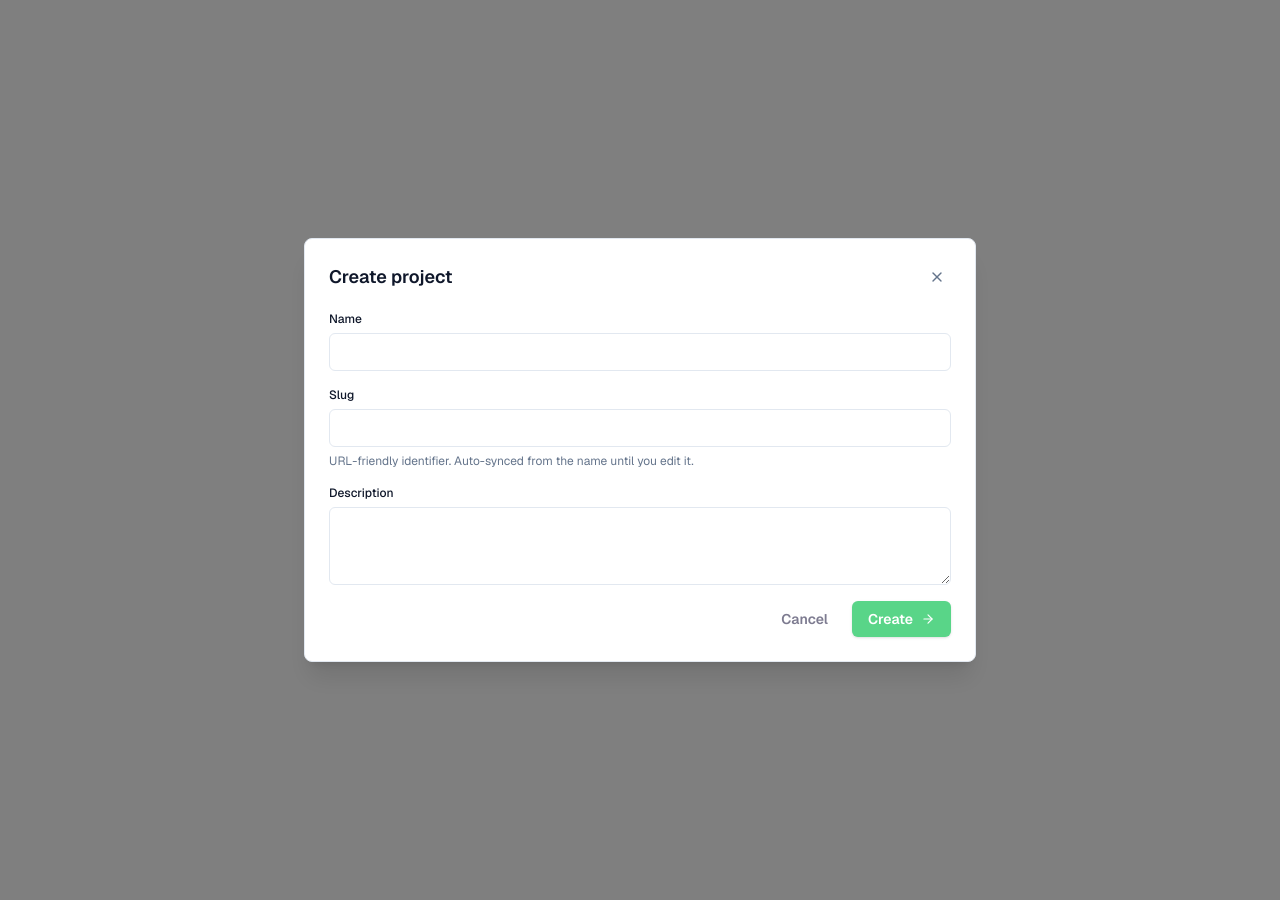
Test: ProjectDialog › should show an inline validation error for a non-kebab slug
The image size is (1280, 900).
Type "Talent Bridge" into the field labelled "Name" at (640, 352), box [329,333,951,371]
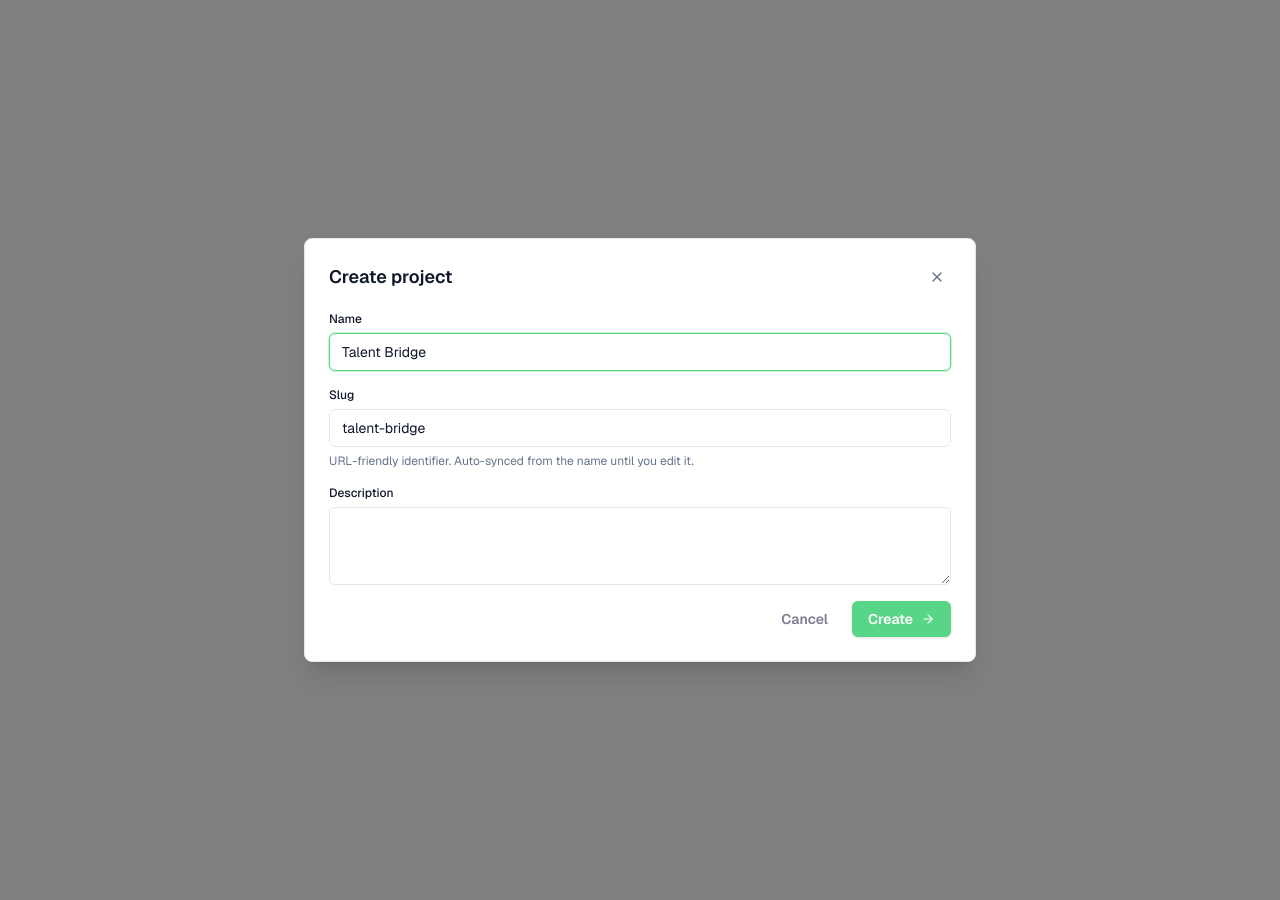
Replace the text in the field labelled "Slug" with "Invalid Slug!" at (640, 428), box [329,409,951,447]
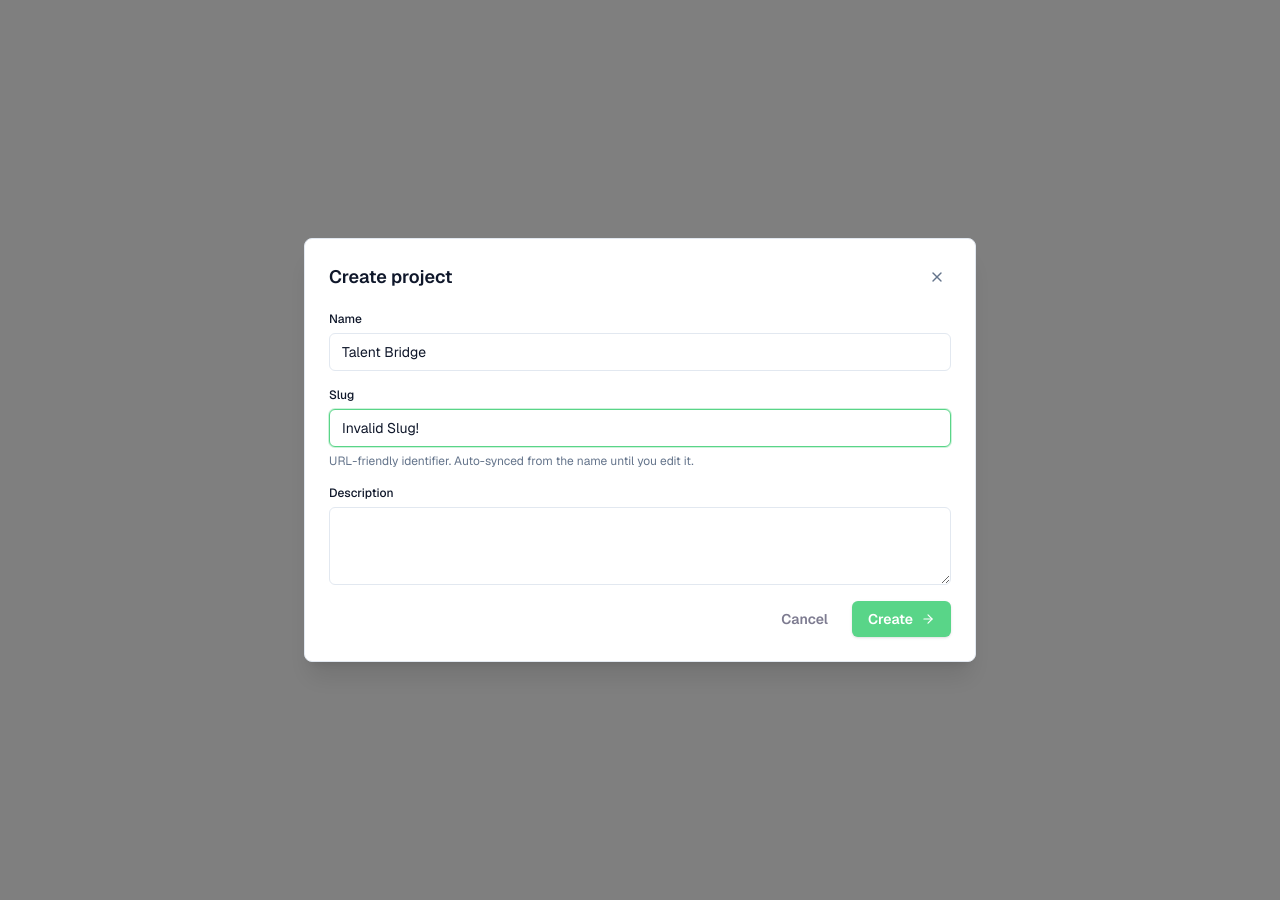
Click the button "Create" at (902, 619), box [852,601,951,637]
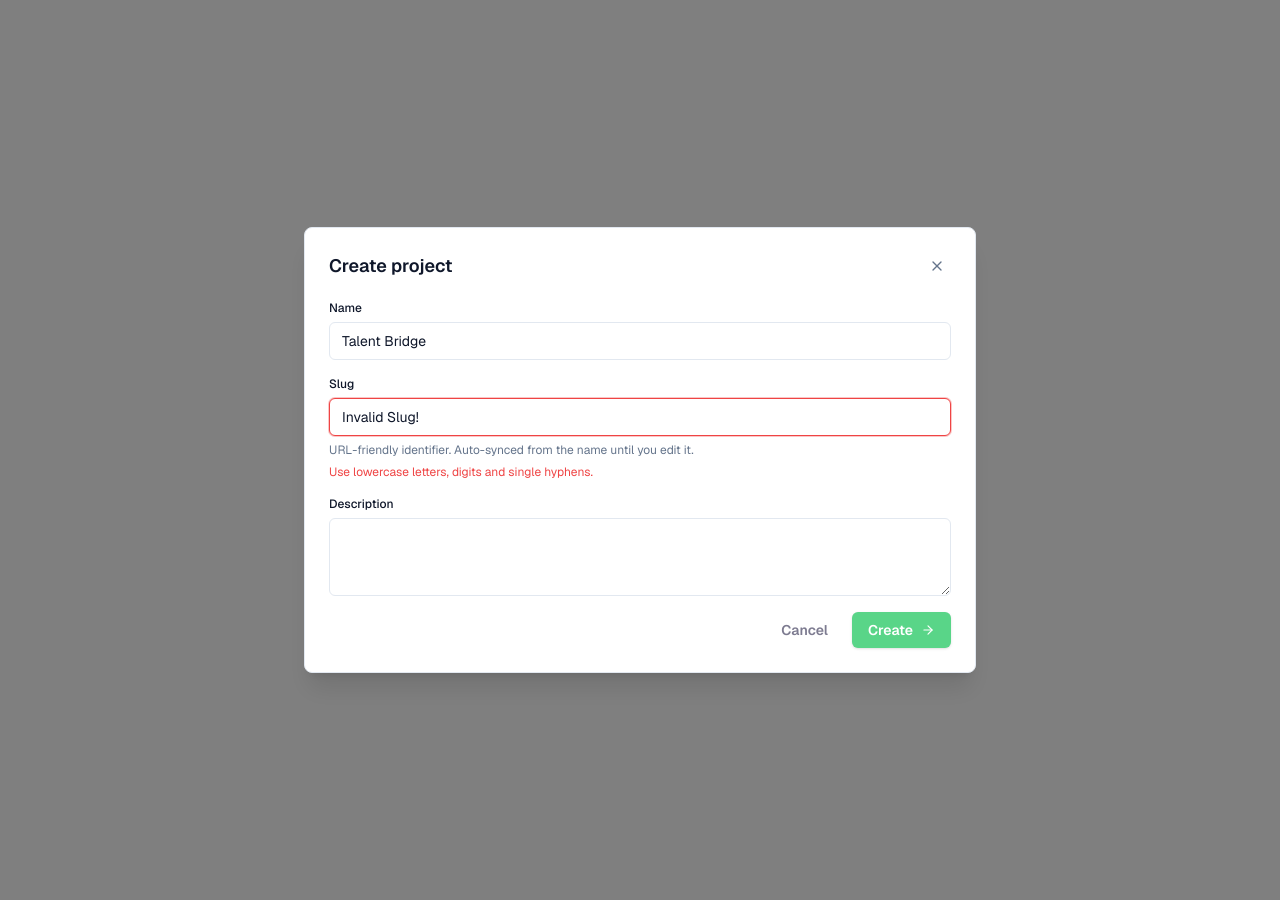
expect the text "Use lowercase letters, digits and single hyphens." is shown: met, box [329,464,593,480]
